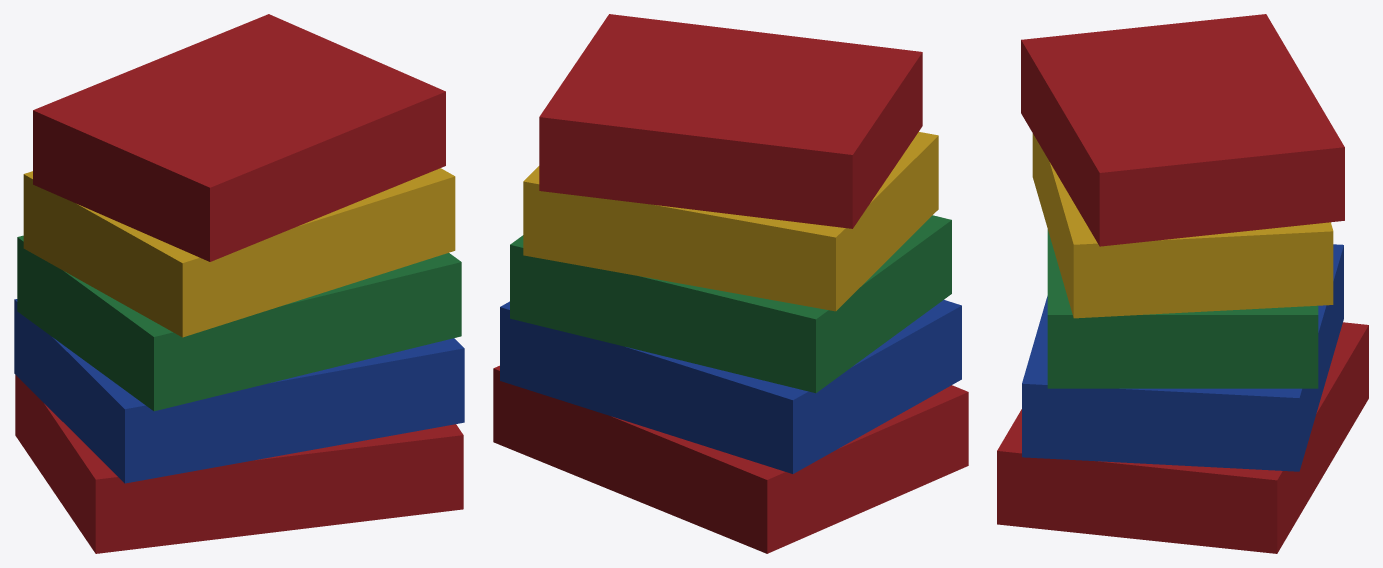
The model's file is livros.obj.
The picture shows the model from 3 angles, left to right: view 1: azimuth 30°, elevation 25°; view 2: azimuth 150°, elevation 25°; view 3: azimuth 270°, elevation 25°; orthographic projection.
Visible parts, largest first — view 1: livros; view 2: livros; view 3: livros.
Boxes of the visible parts, <box> form: livros: <box>14,14,464,553</box>; livros: <box>493,14,968,553</box>; livros: <box>997,14,1368,553</box>.
Bounding box in the file's own units: 0.4849 × 0.45 × 0.4121.
